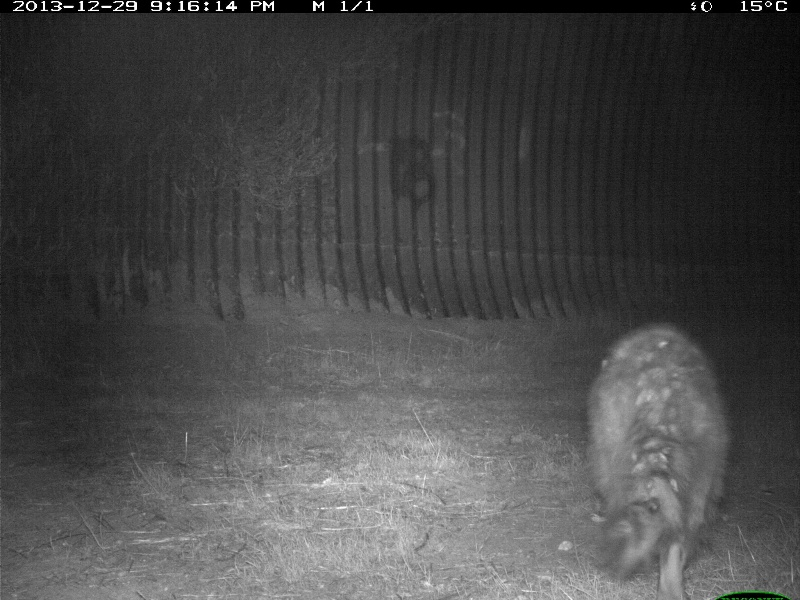raccoon: (584, 323, 728, 597)
